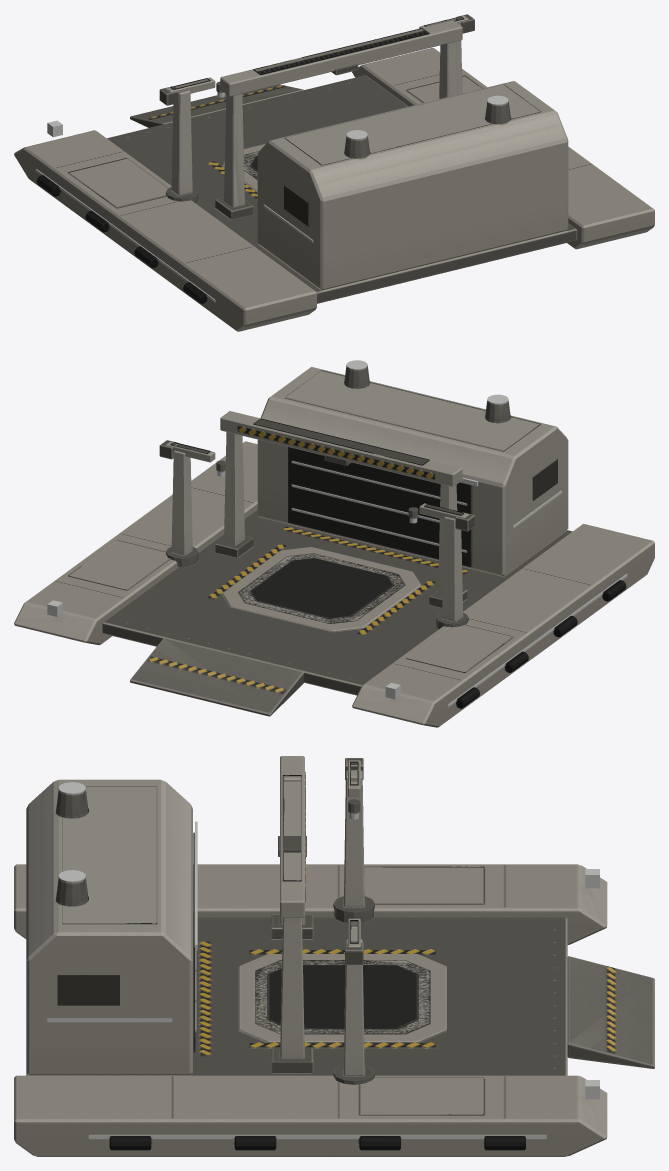
The model's file is ord_hoverdock.fbx.
The picture shows the model from 3 angles, top to bottom: view 1: azimuth 30°, elevation 25°; view 2: azimuth 150°, elevation 25°; view 3: azimuth 270°, elevation 25°; orthographic projection. The views are drawn at different scales.
Visible parts, largest first — view 1: base_bar, base_glow_running_bar; view 2: base_bar, base_glow_power_bar, base_glow_running_bar; view 3: base_bar, base_glow_running_bar, base_glow_power_bar.
Boxes of the visible parts, box(x1,y1,x2,y2) form: base_bar: box(14, 14, 654, 331); base_glow_running_bar: box(35, 120, 313, 302); base_bar: box(14, 366, 654, 727); base_glow_power_bar: box(217, 360, 508, 552); base_glow_running_bar: box(47, 490, 627, 707); base_bar: box(14, 756, 654, 1156); base_glow_running_bar: box(47, 869, 599, 1138); base_glow_power_bar: box(59, 782, 358, 1032).
Size of the model in its own units: 3040 by 1210 by 3080.
Materials: 2 (2 with a texture image).
